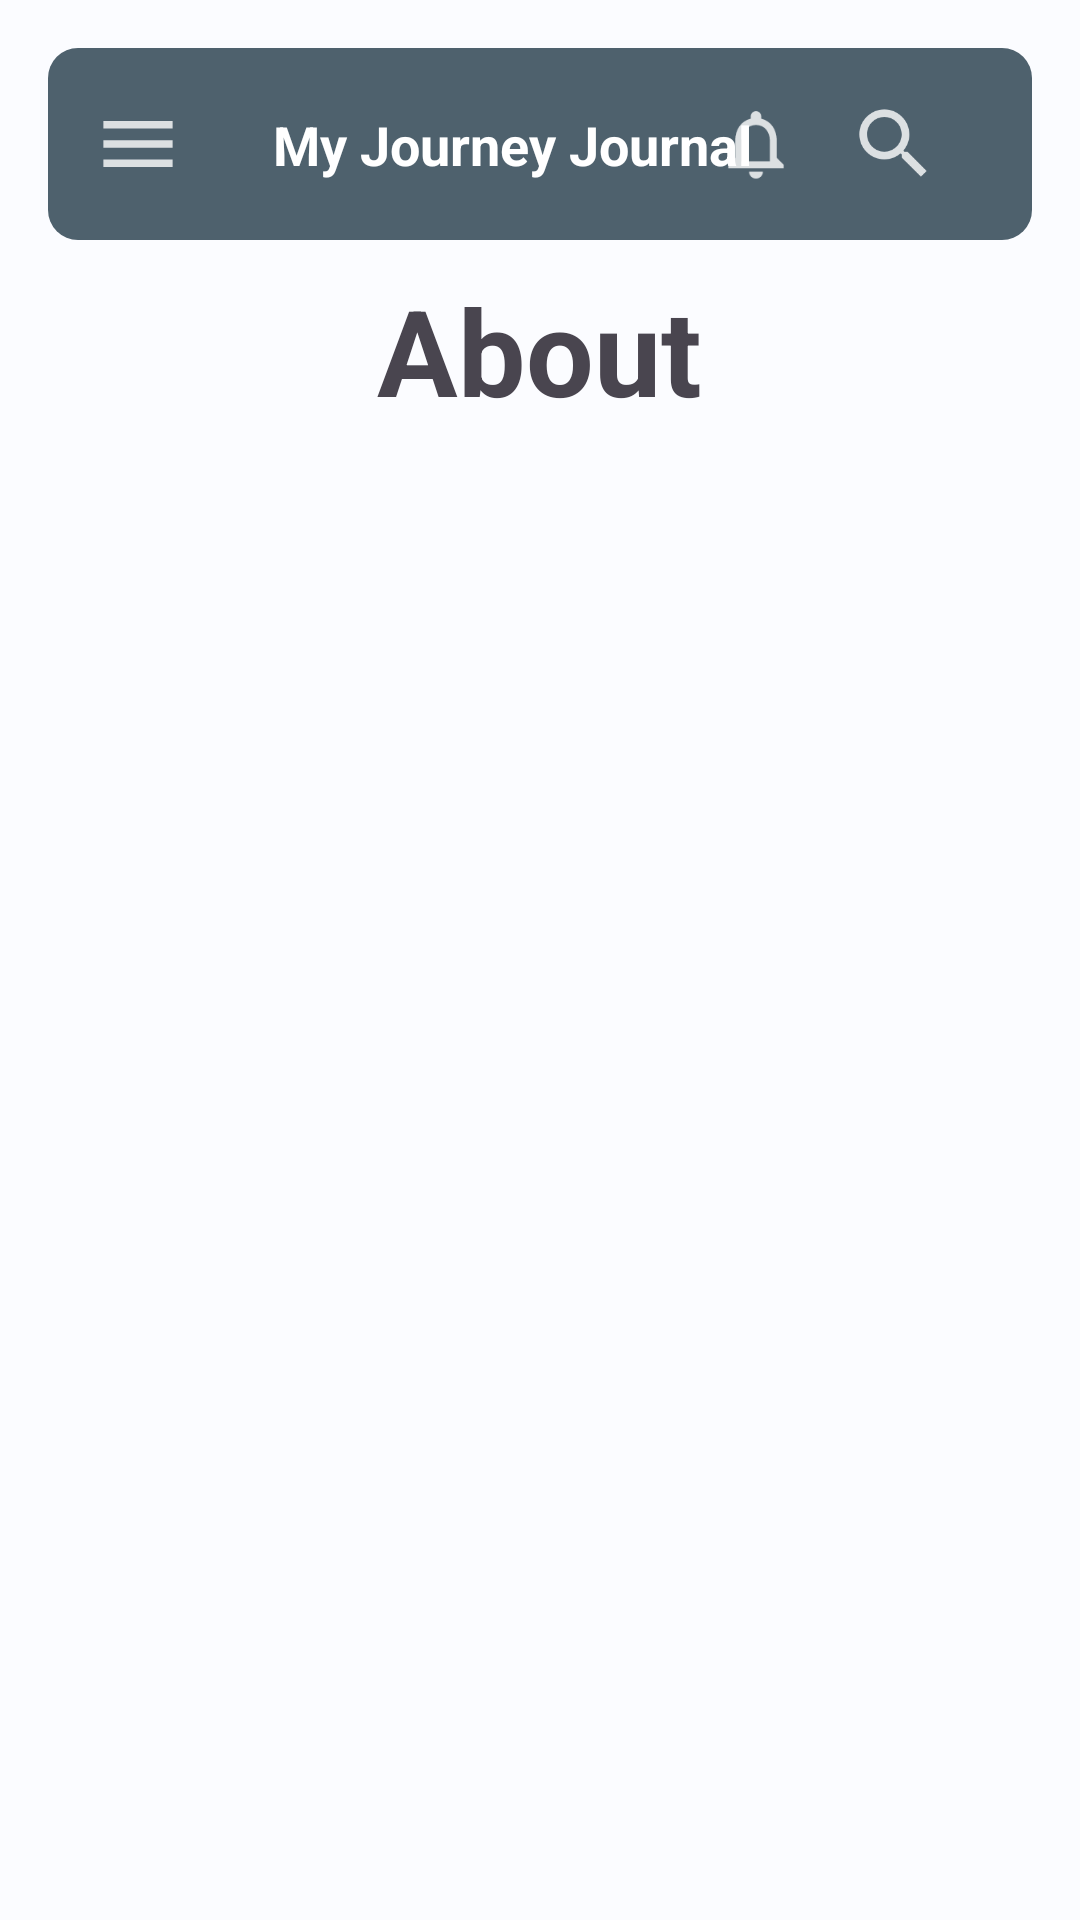

Named icons in this screenshot (1080w x 1920h) and their centers, (x,y):
menu: (138,144)
search: (893,143)
